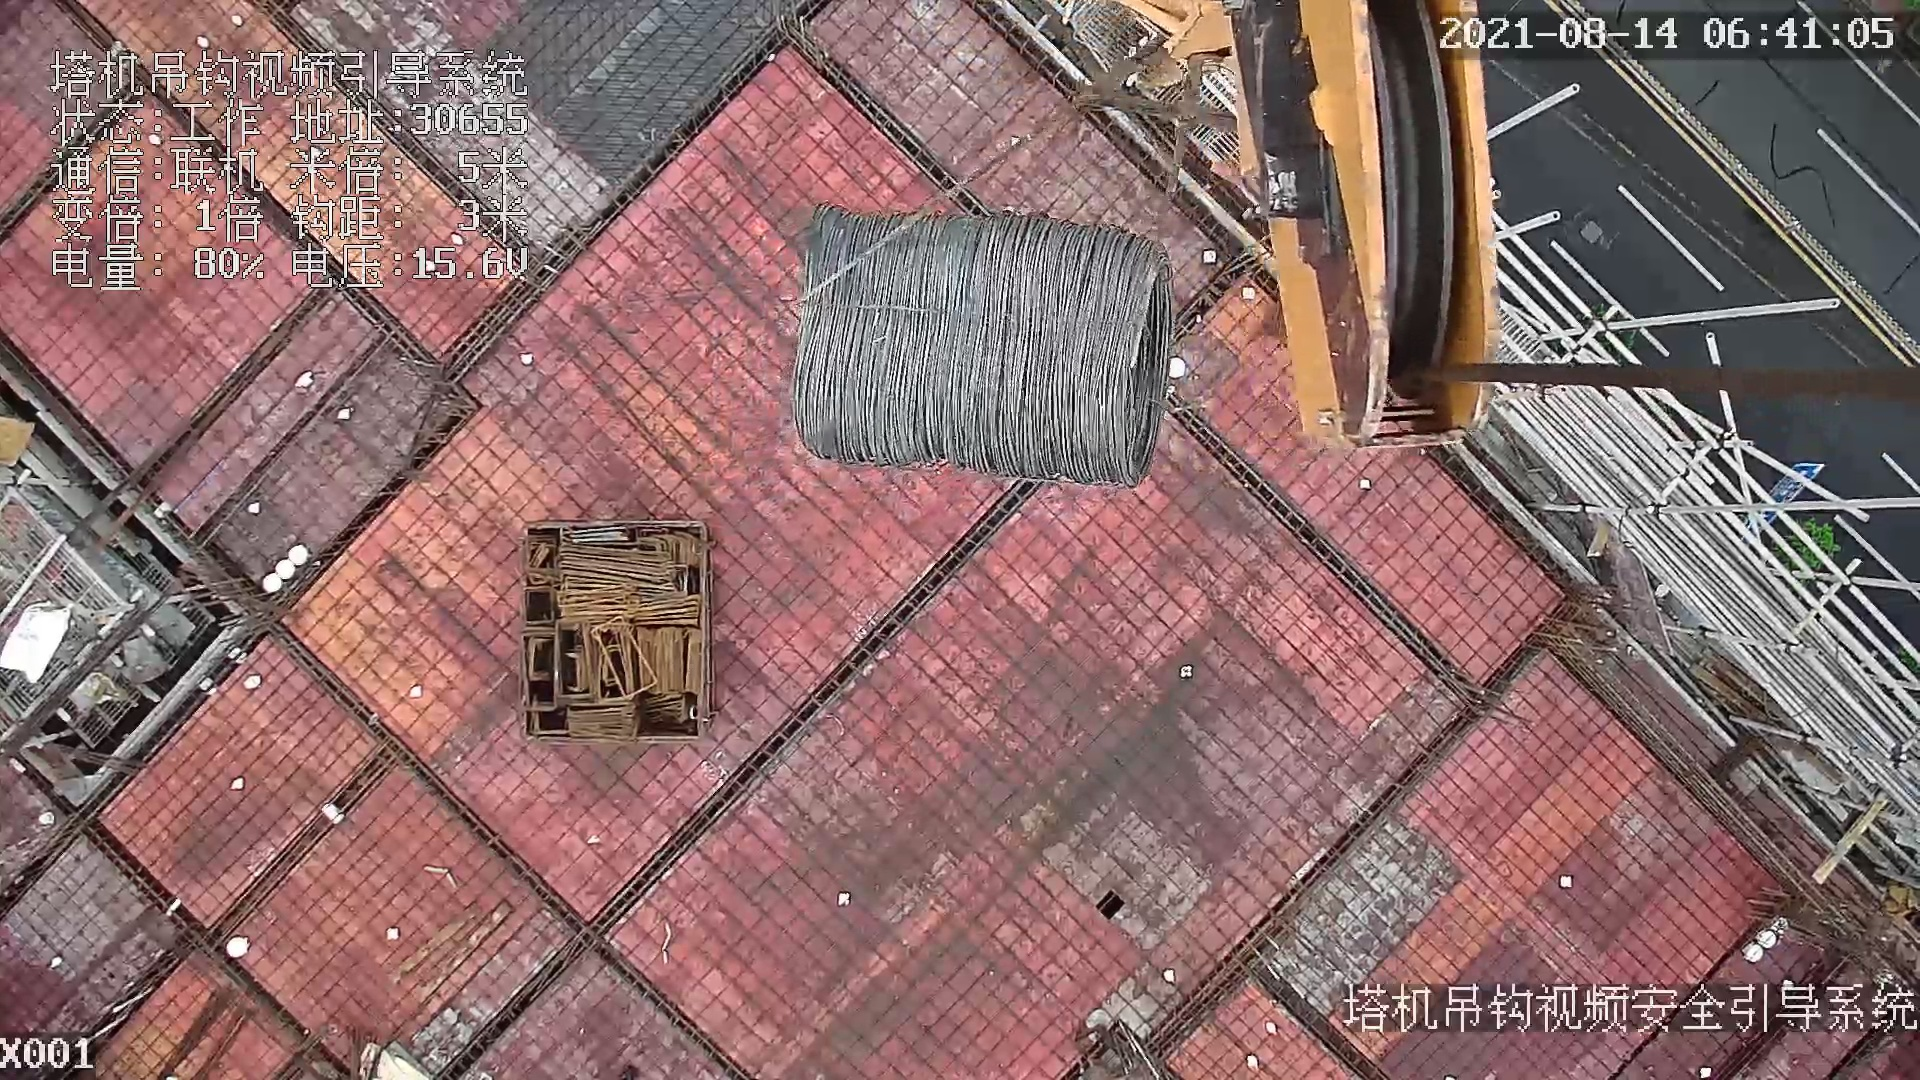hook: (1127, 1, 1503, 451)
